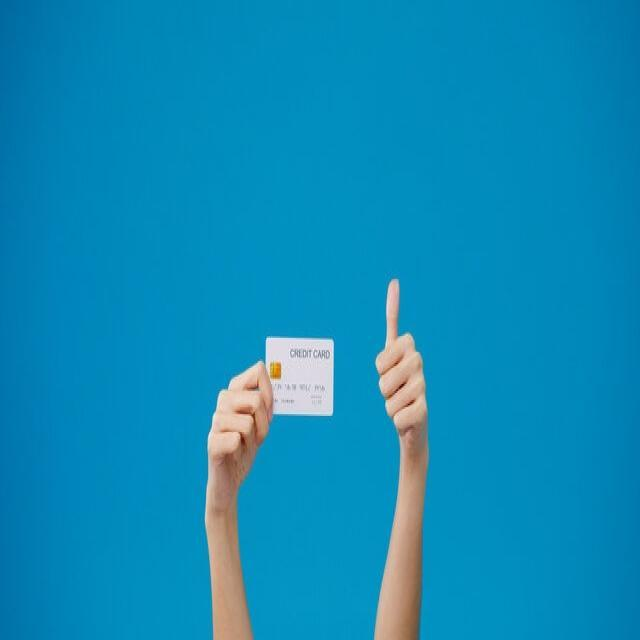payment_card: (264, 335, 334, 416)
